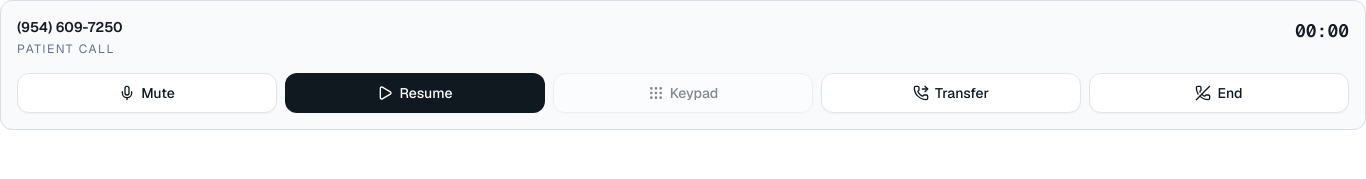
Test: CanonicalActiveCall › surfaces a failed hold-music restart when resume cannot unhold
The width and height of the screenshot is (1366, 179).
Click the button "Resume": (415, 93) [285,73,545,113]
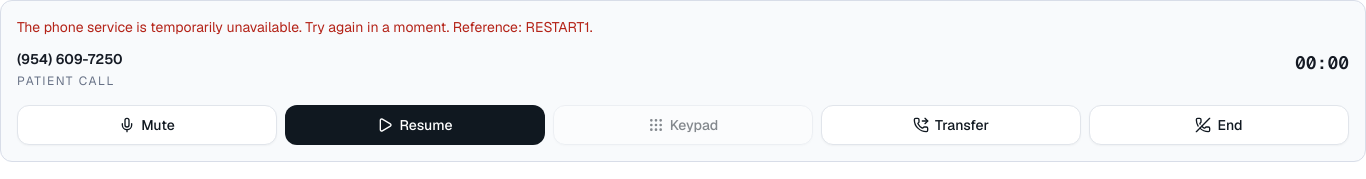
Now the message shows "RESTART1", box [17,18,592,36]
